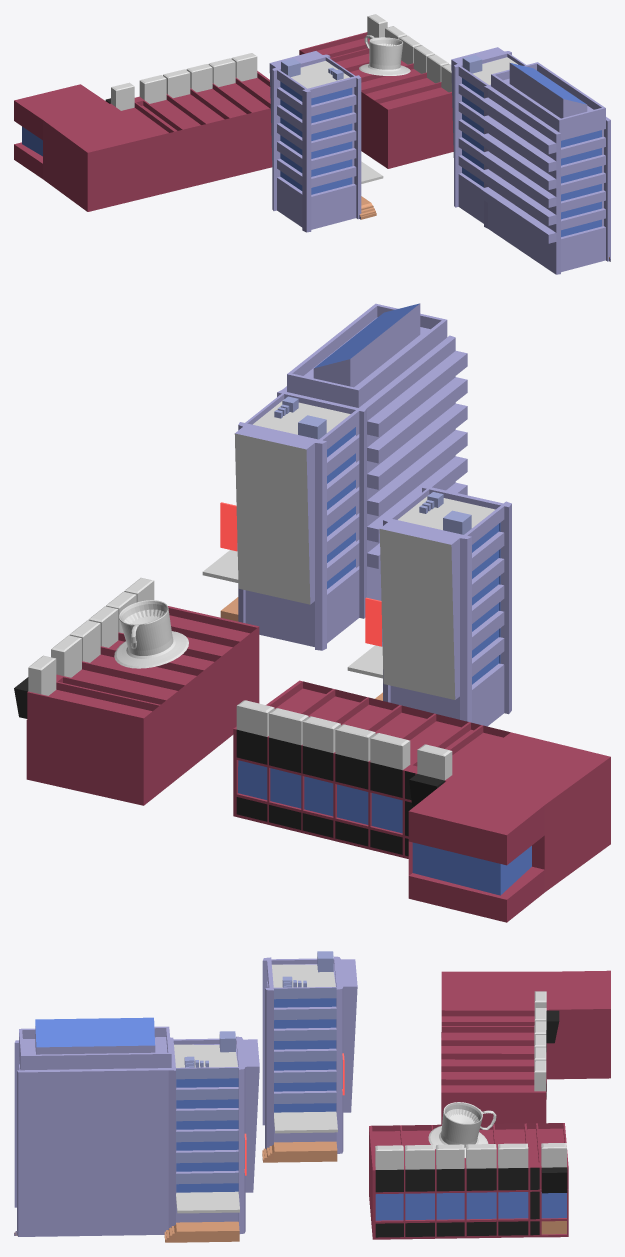
Rendered from free_city_building_assets.glb.
3 views of the same model, one above another, from view 1: azimuth 30°, elevation 25°; view 2: azimuth 150°, elevation 25°; view 3: azimuth 270°, elevation 25° (orthographic). The views are drawn at different scales.
Visible parts, largest first — view 1: building1, shop1, building0, shop0, cofeecup_animated; view 2: shop1, building1, shop0, building0, cofeecup_animated; view 3: building1, shop1, shop0, building0, cofeecup_animated.
Part boxes in pixels (x1,y1,x2,y2): building1: [451, 47, 610, 274]; shop1: [14, 53, 272, 211]; building0: [269, 51, 383, 232]; shop0: [299, 14, 453, 168]; cofeecup_animated: [359, 35, 410, 75]; shop1: [233, 680, 610, 922]; building1: [202, 303, 467, 650]; shop0: [14, 577, 259, 805]; building0: [347, 484, 511, 726]; cofeecup_animated: [114, 600, 188, 668]; building1: [14, 1017, 259, 1242]; shop1: [441, 970, 610, 1124]; shop0: [369, 1123, 568, 1239]; building0: [262, 951, 357, 1162]; cofeecup_animated: [428, 1102, 496, 1157].
Size of what is drawn, in the model's own units: 19.46 by 8.44 by 23.43.
